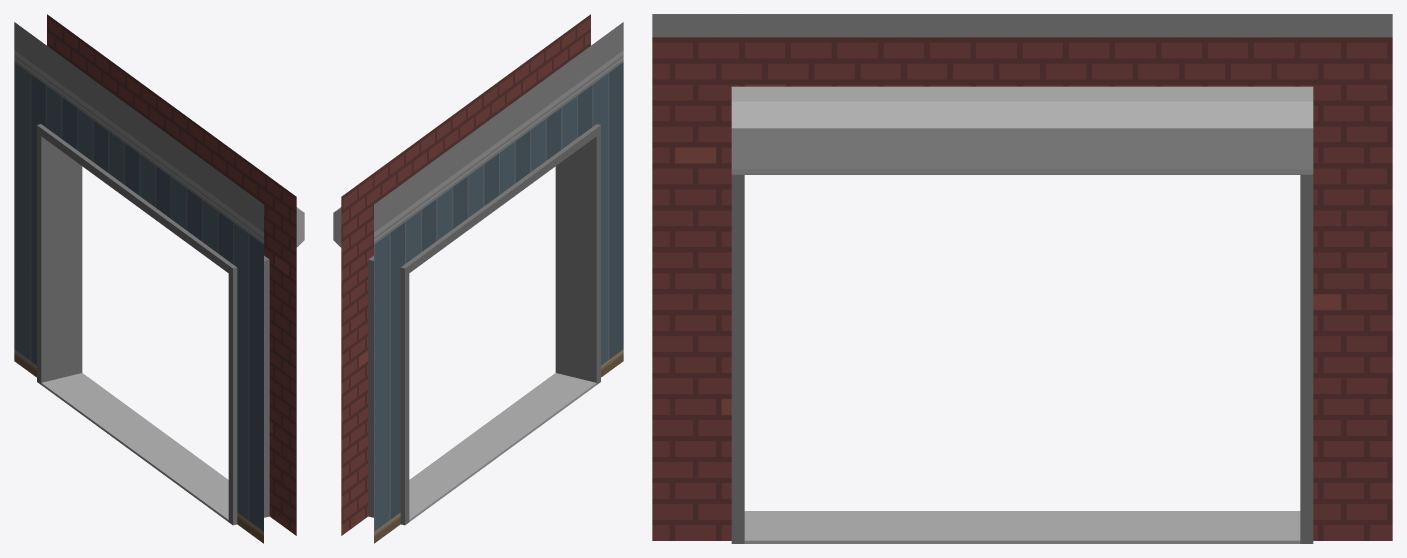
The model's file is SM_wallGarageDoor_01.glb.
3 renders of one model, left to right at view 1: azimuth 30°, elevation 25°; view 2: azimuth 150°, elevation 25°; view 3: azimuth 270°, elevation 25°, orthographic. The views are drawn at different scales.
Parts seen in each view (by area): view 1: SM_wallGarageDoor_01; view 2: SM_wallGarageDoor_01; view 3: SM_wallGarageDoor_01.
Part boxes in pixels (bbox=[...]): SM_wallGarageDoor_01: bbox=[14, 14, 304, 543]; SM_wallGarageDoor_01: bbox=[333, 14, 623, 543]; SM_wallGarageDoor_01: bbox=[652, 14, 1392, 543].
Size of the model in its own units: 0.6626 by 3 by 4.
3 materials, 3 textured.
